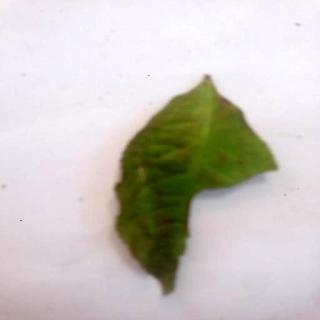Brown Blight: (116, 75, 282, 295)
